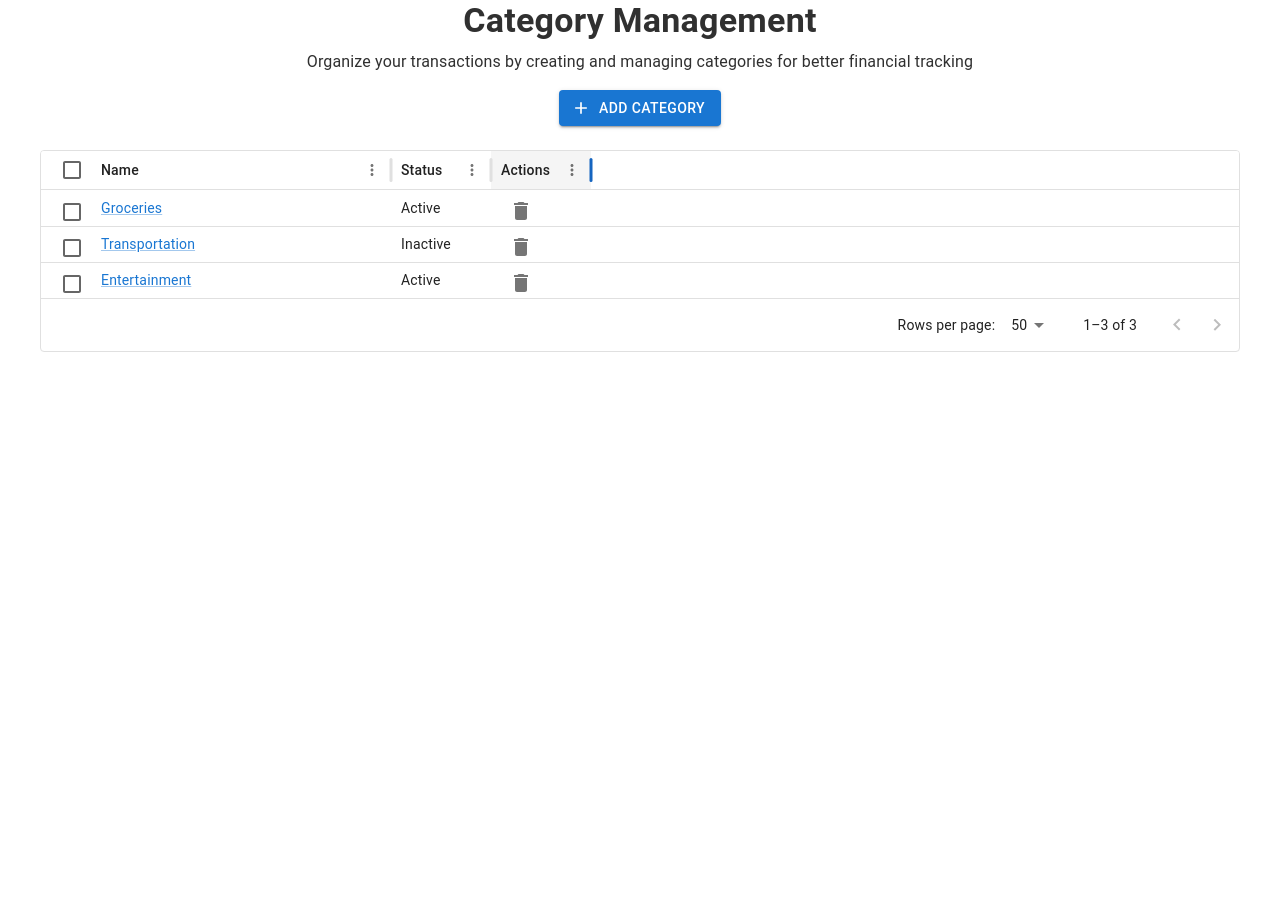
Scenario: pages/finance/categories › Basic CRUD Operations › adds a new category (happy path)
The image size is (1280, 900).
Click the button "Add Category" at (640, 108), box [559,90,721,126]
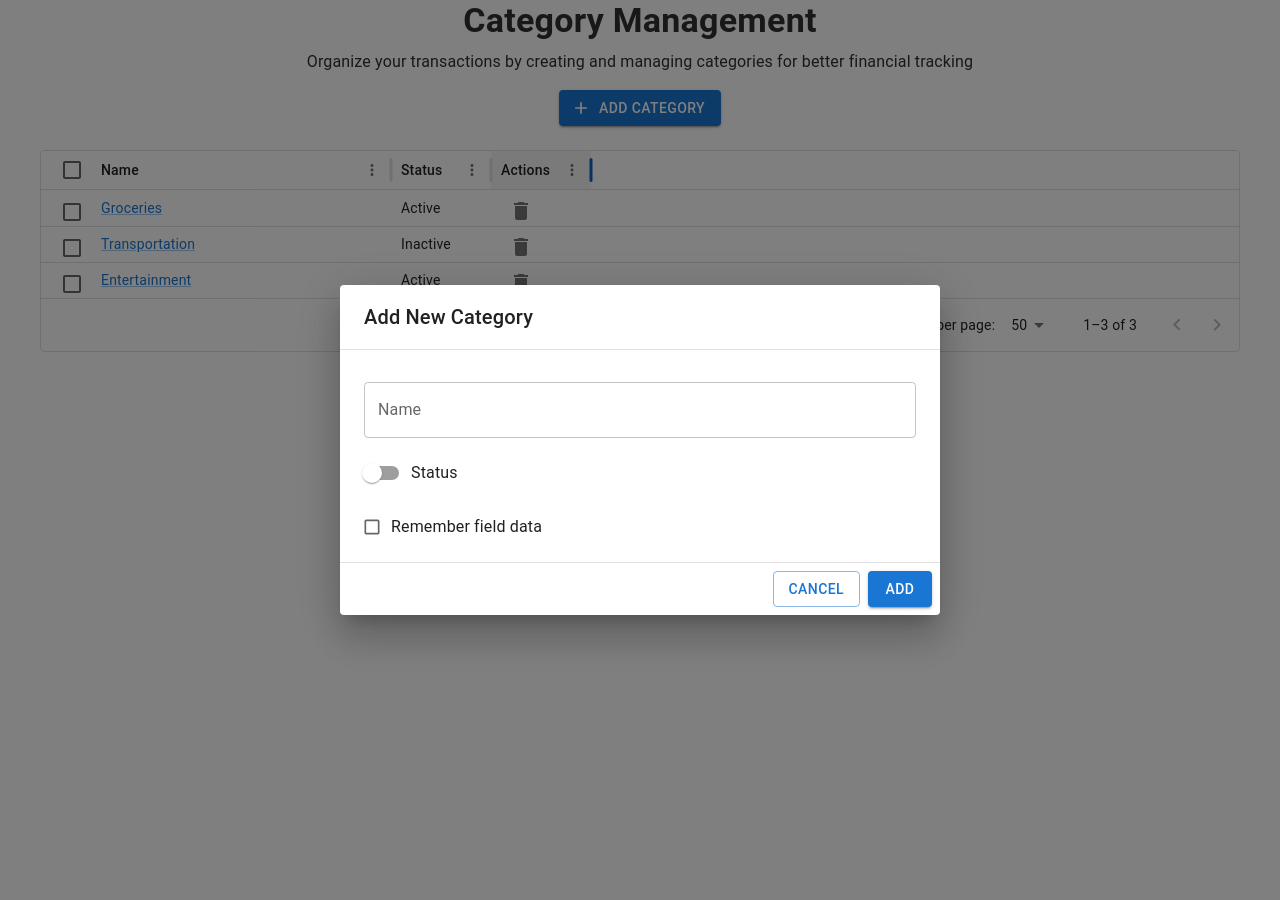
Click the button "Add" at (900, 589), box [868,571,932,607]
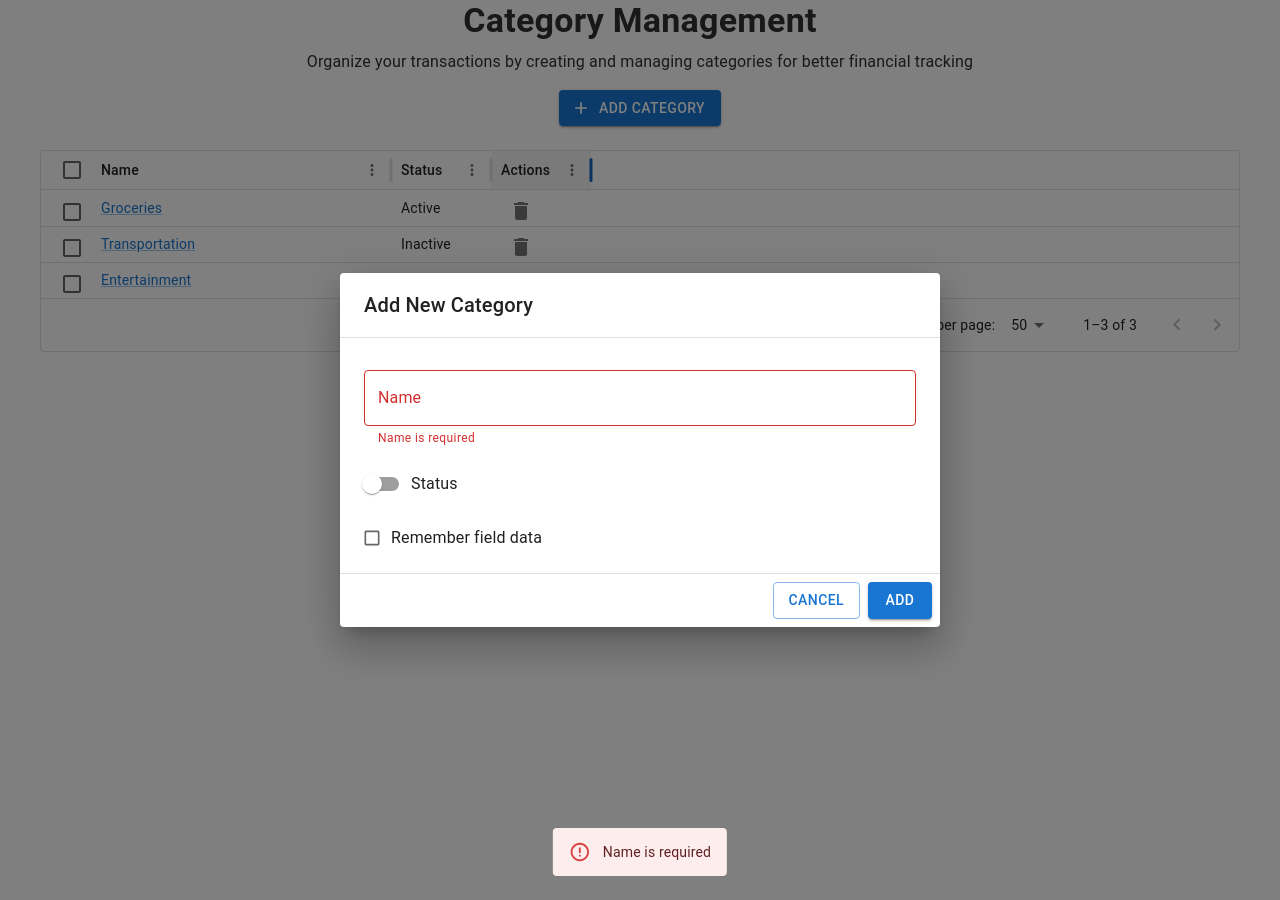
Check: the text "Name is required" is shown 2 times, box [603,844,711,860]; [378,431,475,445]
